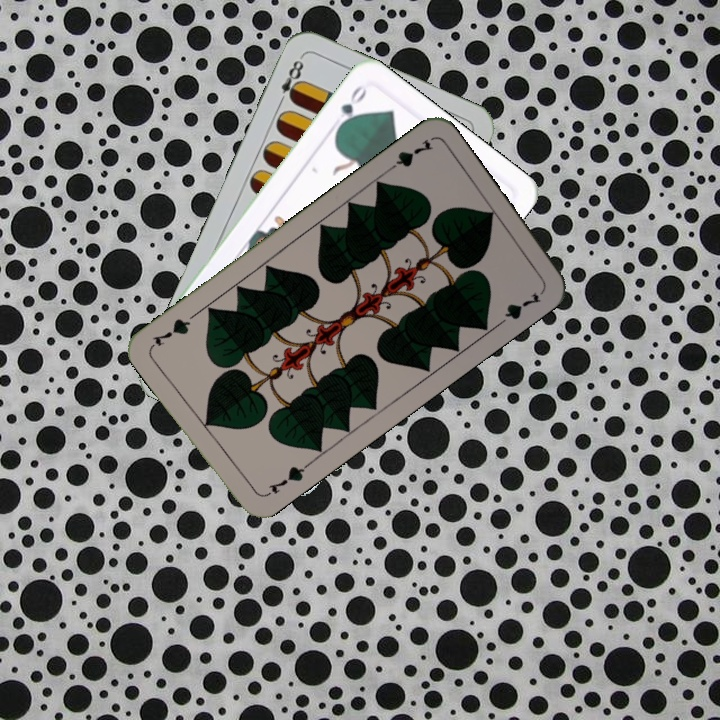E8: (274, 56, 307, 109)
G7: (381, 135, 435, 175), (259, 460, 311, 500)
GO: (332, 80, 370, 134)
